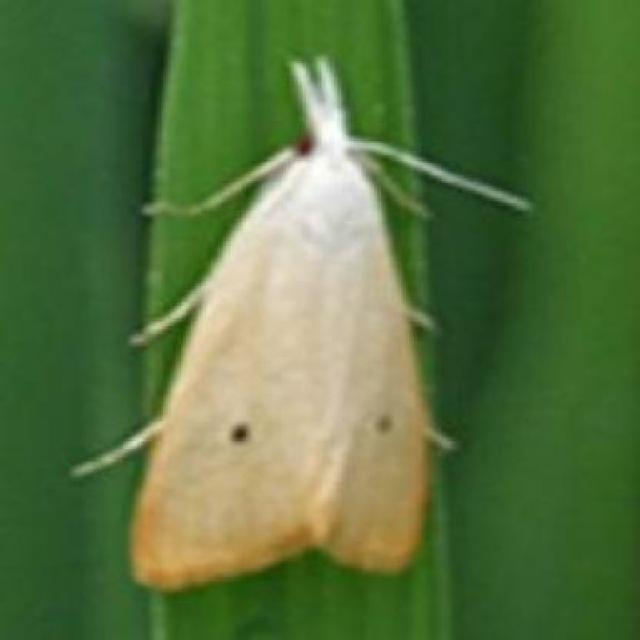stem-borer: (125, 50, 438, 592)
